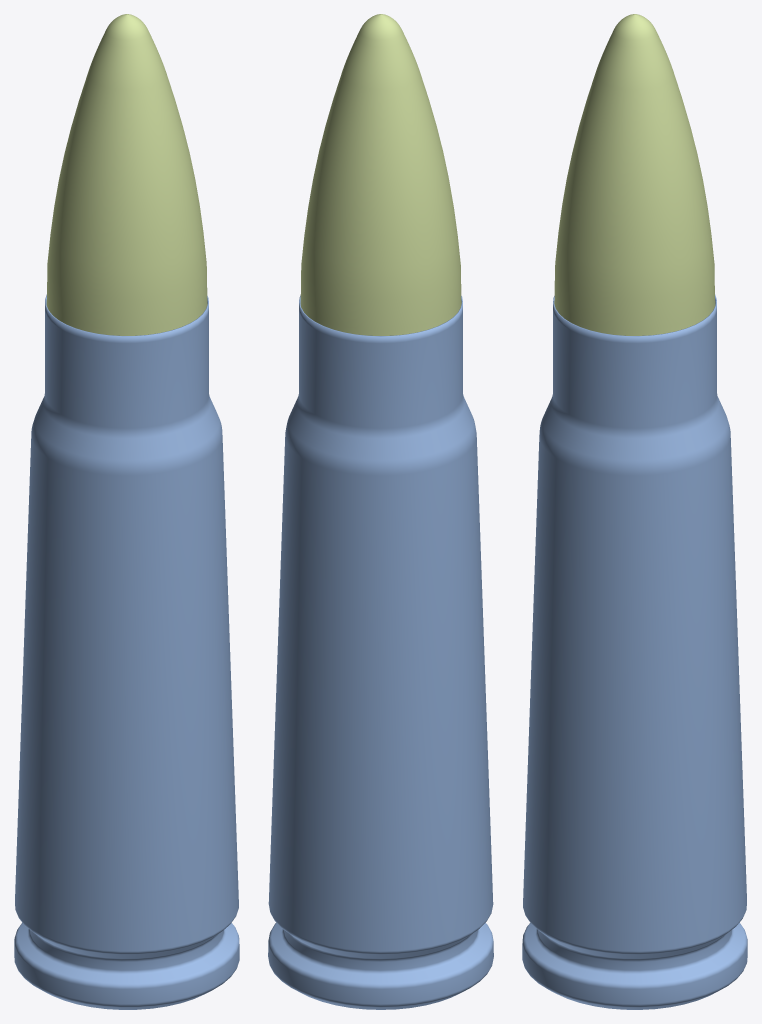
The model's file is bullet.obj.
3 views of the same model, side by side, from view 1: azimuth 30°, elevation 25°; view 2: azimuth 150°, elevation 25°; view 3: azimuth 270°, elevation 25° (orthographic).
Visible parts, largest first — view 1: Line062, Line061; view 2: Line062, Line061; view 3: Line062, Line061.
Part boxes in pixels (x1=…): Line062: x1=14, y1=294, x2=239, y2=1009; Line061: x1=46, y1=14, x2=207, y2=335; Line062: x1=268, y1=295, x2=493, y2=1009; Line061: x1=300, y1=14, x2=461, y2=335; Line062: x1=522, y1=294, x2=747, y2=1009; Line061: x1=554, y1=14, x2=715, y2=335.
Bounding box in the file's own units: 4.65 × 21.74 × 4.65.
